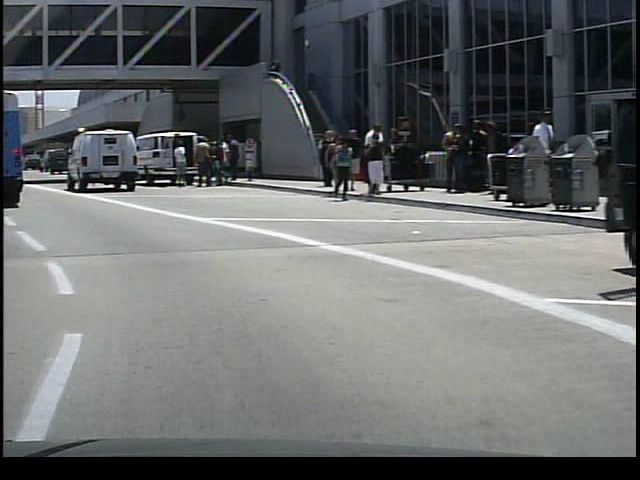person: (519, 106, 551, 209), (356, 122, 386, 196), (358, 133, 382, 198), (189, 136, 212, 189), (219, 132, 240, 181), (168, 135, 186, 189)
